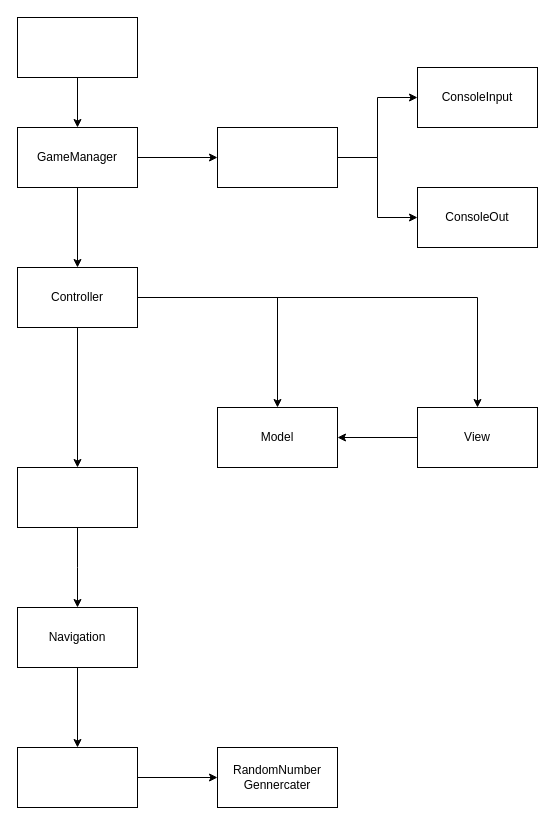
Some shapes in this 555 by 825 pixel diagram are drawn without their labels. Here are the shapes that lost their labels. From the top down, the centre of each, then its label:
point (77, 47): Application
point (277, 157): UIFacade
point (77, 497): GameService
point (77, 777): Car
